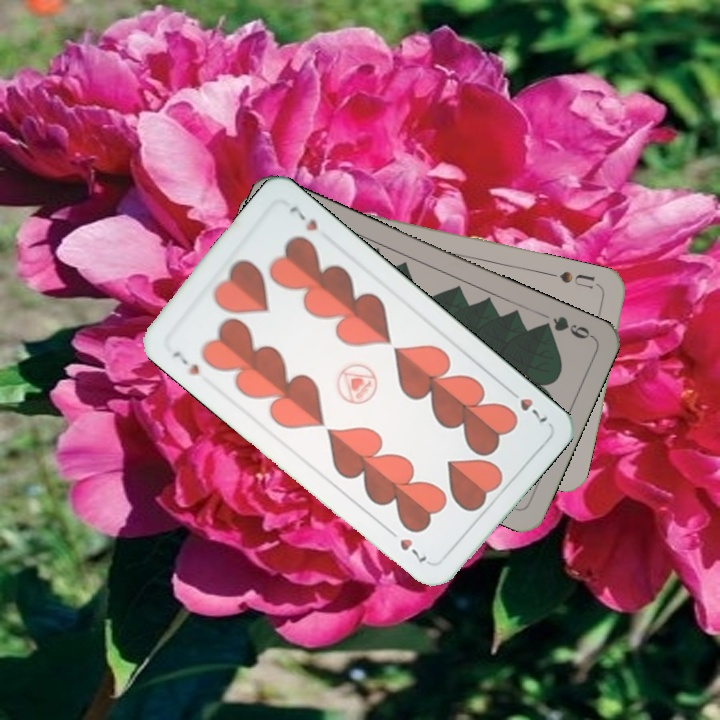G9: (536, 312, 596, 342)
H7: (502, 384, 551, 425), (168, 346, 202, 378)
SU: (555, 267, 605, 295)
